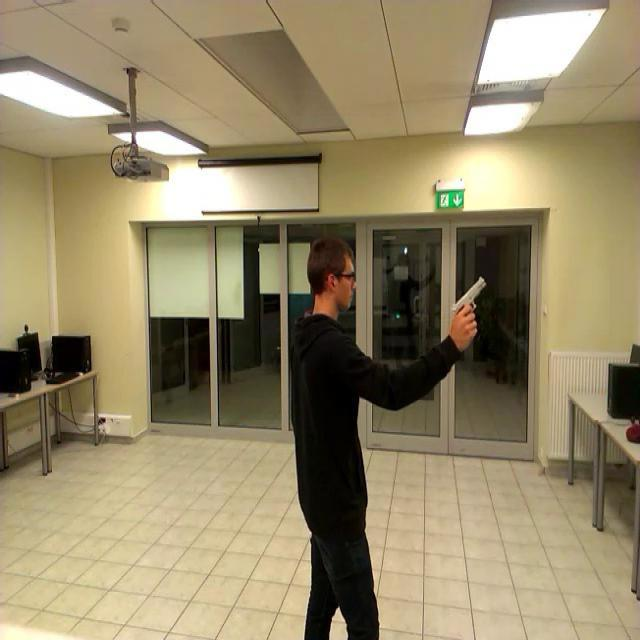weapon: (450, 276, 486, 330)
